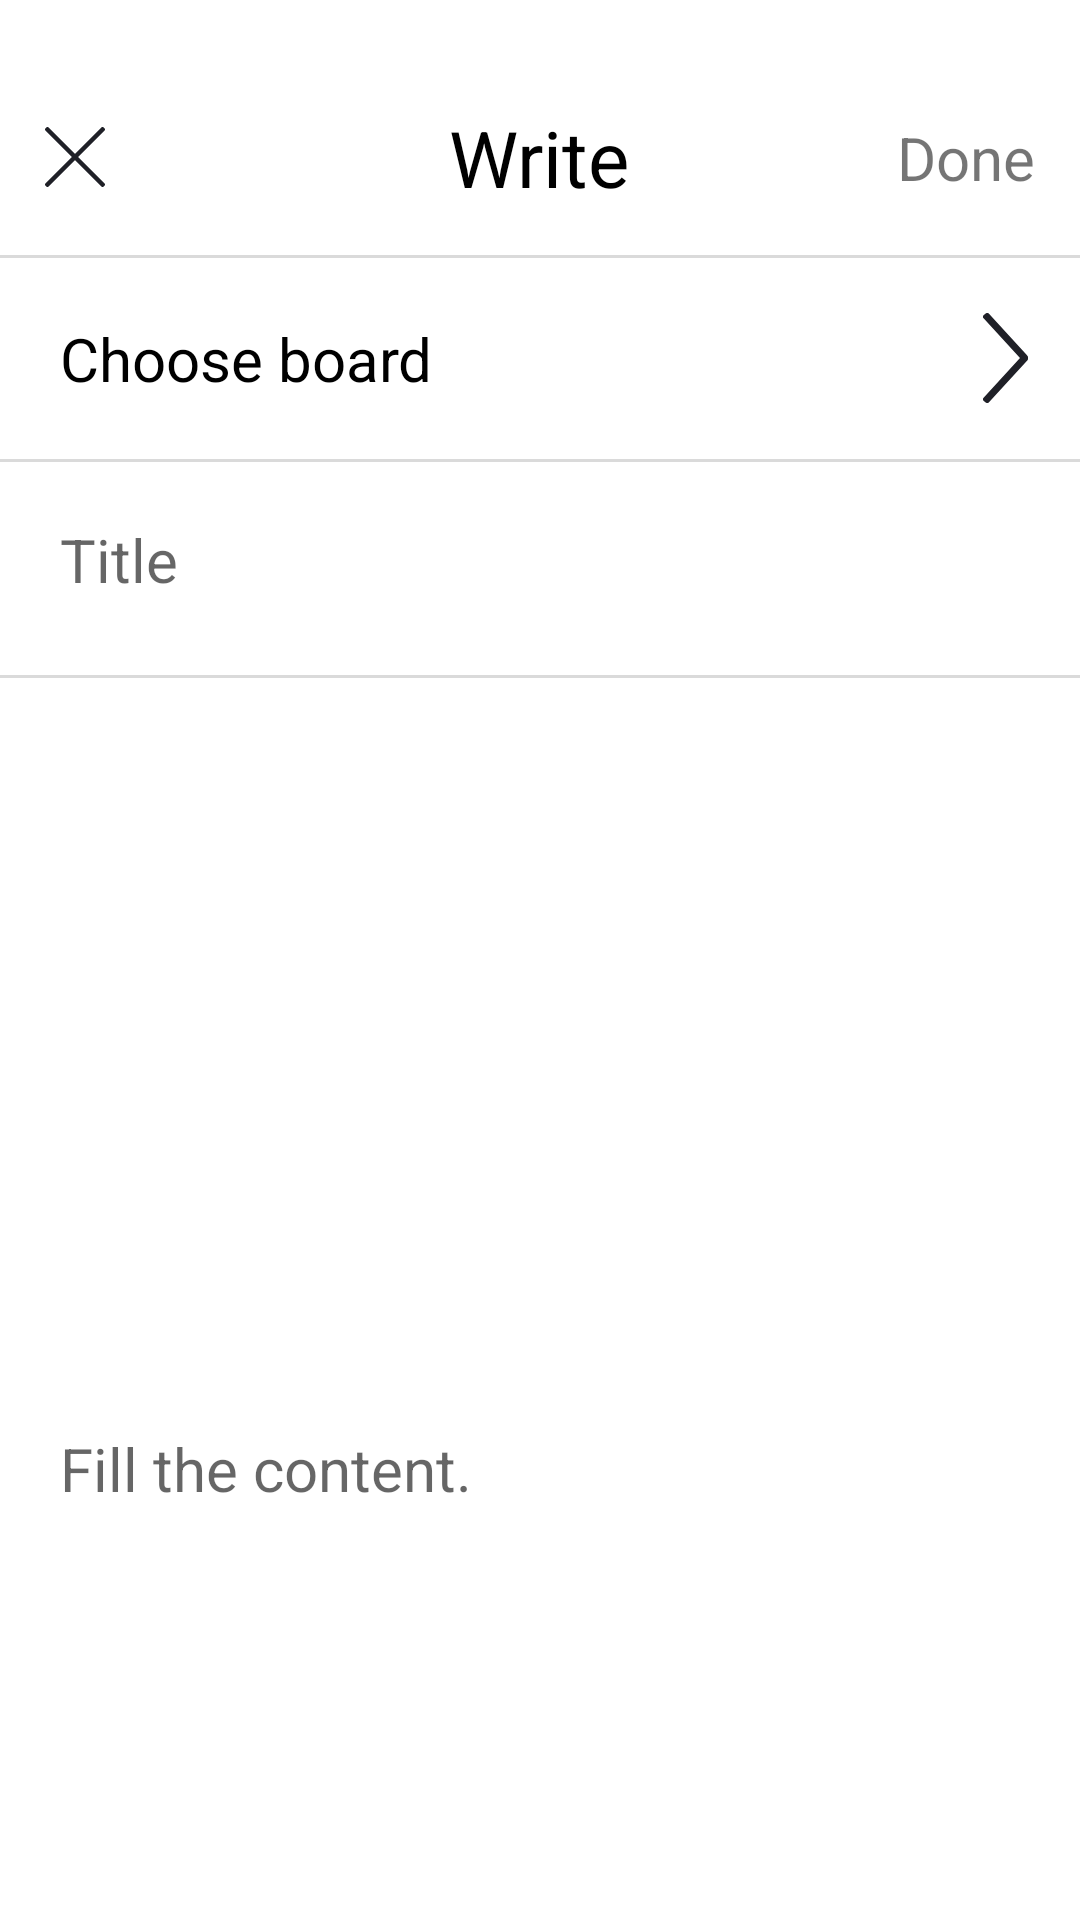

Where icons sit on this 1080w x 1920h app screen, as (x1, y1, x2, y2):
close: (45, 127, 105, 187)
go next: (983, 313, 1028, 403)
